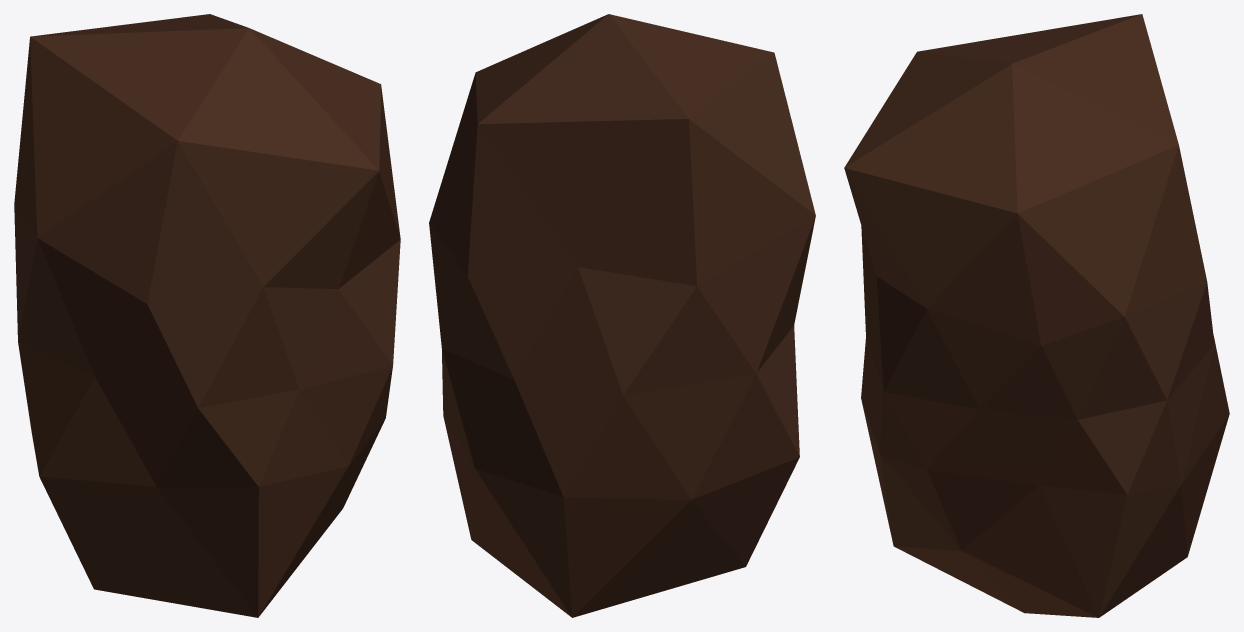
The model's file is FloatingRock2.fbx.
3 renders of one model, left to right at view 1: azimuth 30°, elevation 25°; view 2: azimuth 150°, elevation 25°; view 3: azimuth 270°, elevation 25°, orthographic. The views are drawn at different scales.
Visible parts, largest first — view 1: Icosphere; view 2: Icosphere; view 3: Icosphere.
Boxes of the visible parts, box(x1,y1,x2,y2) form: Icosphere: box(14, 14, 400, 617); Icosphere: box(429, 14, 815, 617); Icosphere: box(844, 14, 1229, 617).
Bounding box in the file's own units: 160 × 256 × 161.
